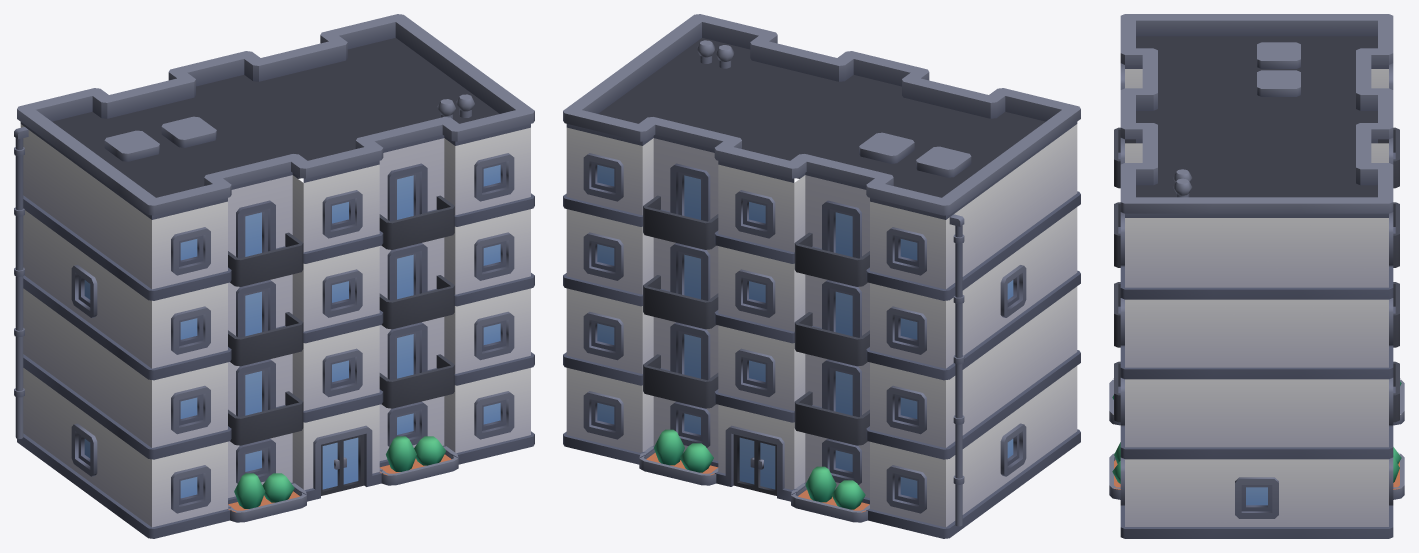
Rendered from c_building-j.glb.
The picture shows the model from 3 angles, left to right: view 1: azimuth 30°, elevation 25°; view 2: azimuth 150°, elevation 25°; view 3: azimuth 270°, elevation 25°; orthographic projection.
Visible parts, largest first — view 1: building-j; view 2: building-j; view 3: building-j.
Part boxes in pixels (x1,y1,x2,y2): building-j: (14, 14, 534, 538); building-j: (563, 14, 1080, 538); building-j: (1109, 14, 1404, 538).
Bounding box in the file's own units: 2.08 × 1.7 × 1.34.
Materials: 1 (1 with a texture image).
